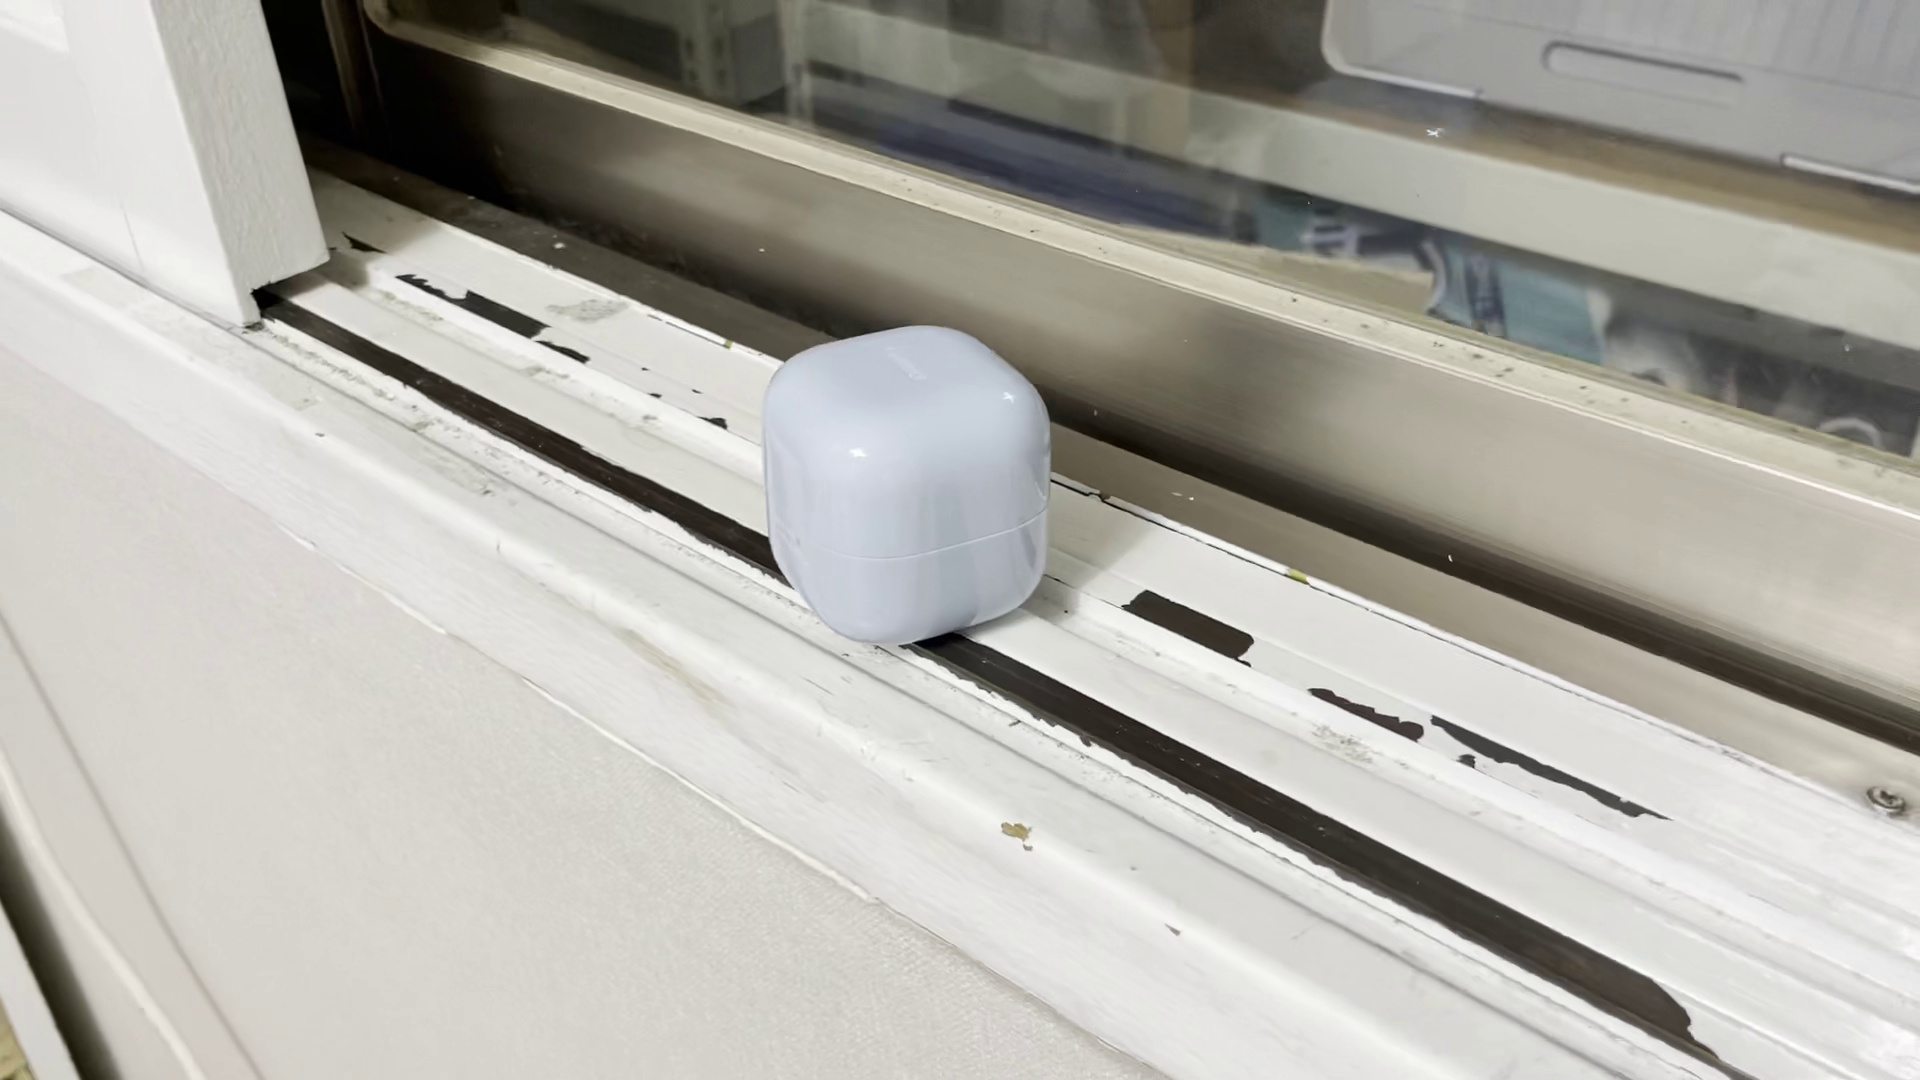cream: (760, 319, 1044, 641)
